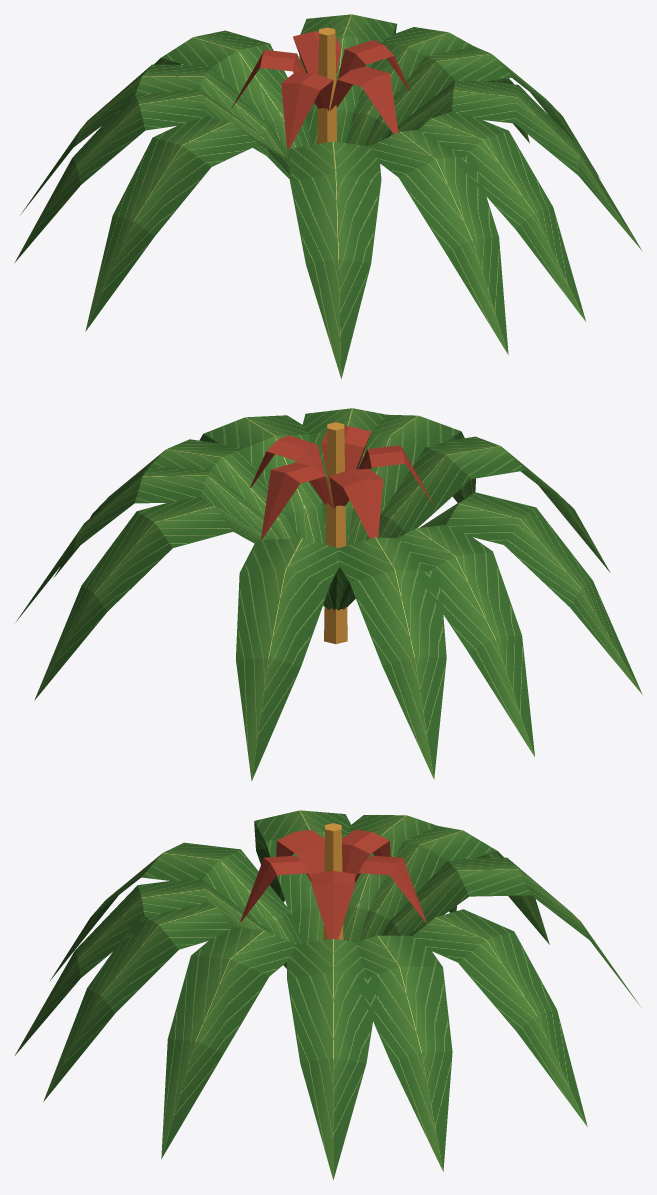
The model's file is bromeliad.glb.
The picture shows the model from 3 angles, top to bottom: view 1: azimuth 30°, elevation 25°; view 2: azimuth 150°, elevation 25°; view 3: azimuth 270°, elevation 25°; orthographic projection. The views are drawn at different scales.
Parts seen in each view (by area): view 1: RosetteLeaf; view 2: RosetteLeaf; view 3: RosetteLeaf.
Boxes of the visible parts, x1=… form: RosetteLeaf: x1=14, y1=14, x2=641, y2=378; RosetteLeaf: x1=15, y1=408, x2=642, y2=780; RosetteLeaf: x1=15, y1=810, x2=641, y2=1179.
Size of the model in its own units: 1.19 by 0.45 by 1.18.
3 materials, 1 textured.
